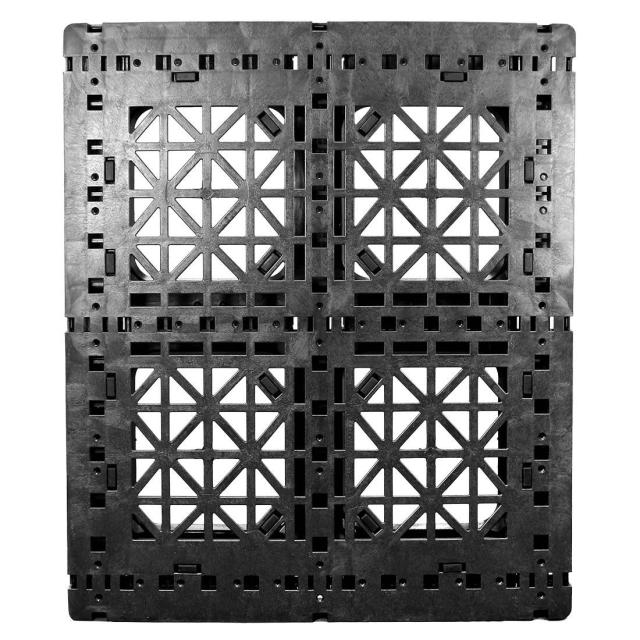non-igps: (48, 8, 591, 633)
